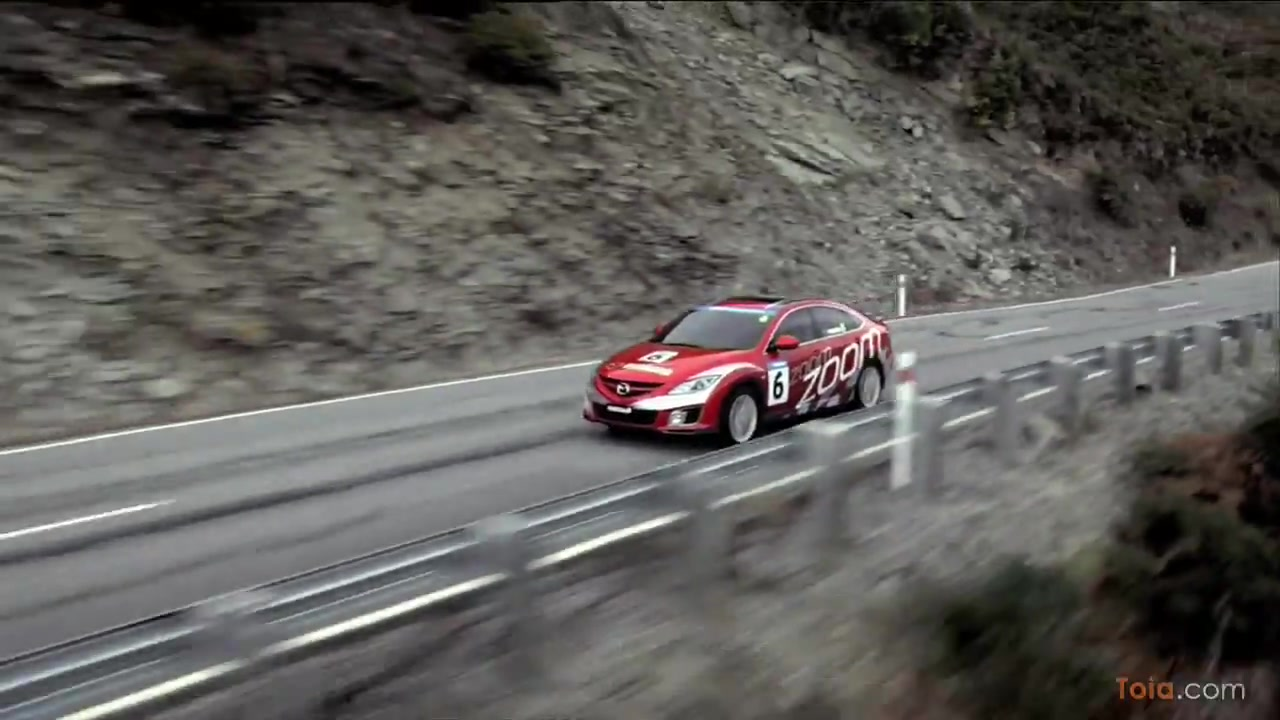car: (584, 297, 898, 449)
